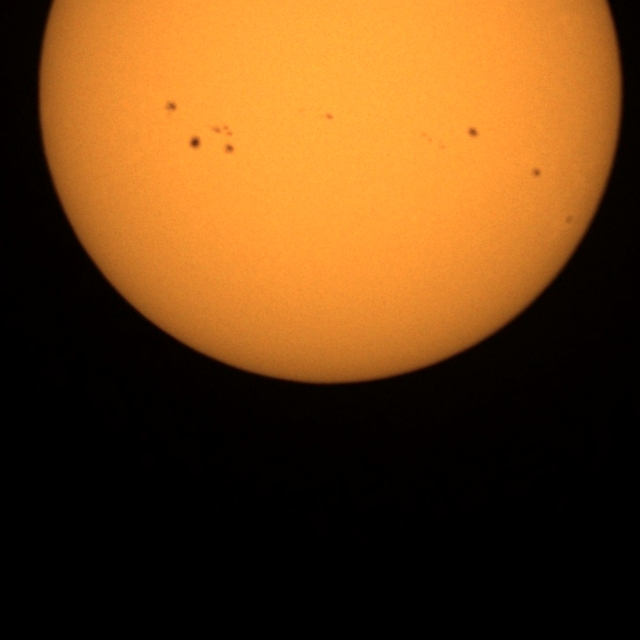sunspot: (210, 125, 234, 138), (188, 135, 203, 151), (164, 99, 178, 115), (466, 126, 480, 140), (223, 143, 235, 156), (531, 166, 542, 179), (564, 214, 574, 226), (325, 113, 334, 121)
